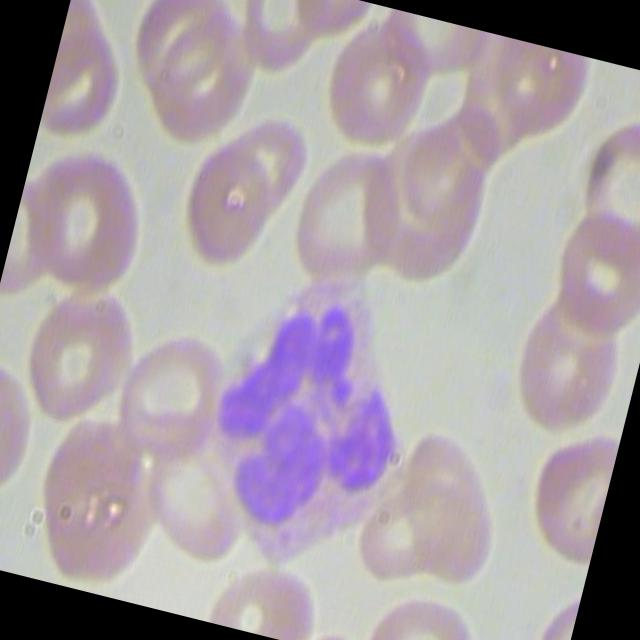RBC: (276, 130, 420, 310), (380, 420, 524, 599), (498, 280, 639, 448), (13, 268, 152, 432), (157, 127, 296, 290), (312, 3, 450, 161), (108, 312, 234, 468), (536, 197, 640, 344), (559, 99, 640, 253)
WBC: (168, 250, 452, 598)
